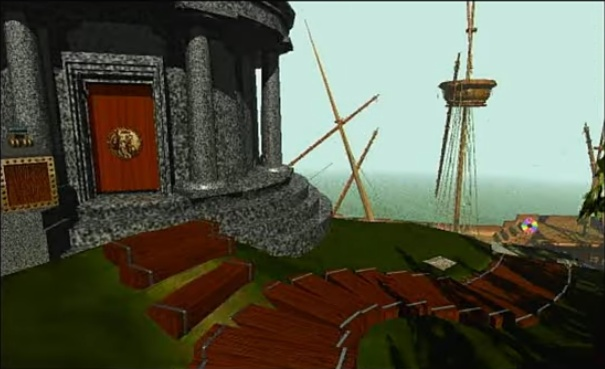Waiting: (515, 211, 542, 237)
